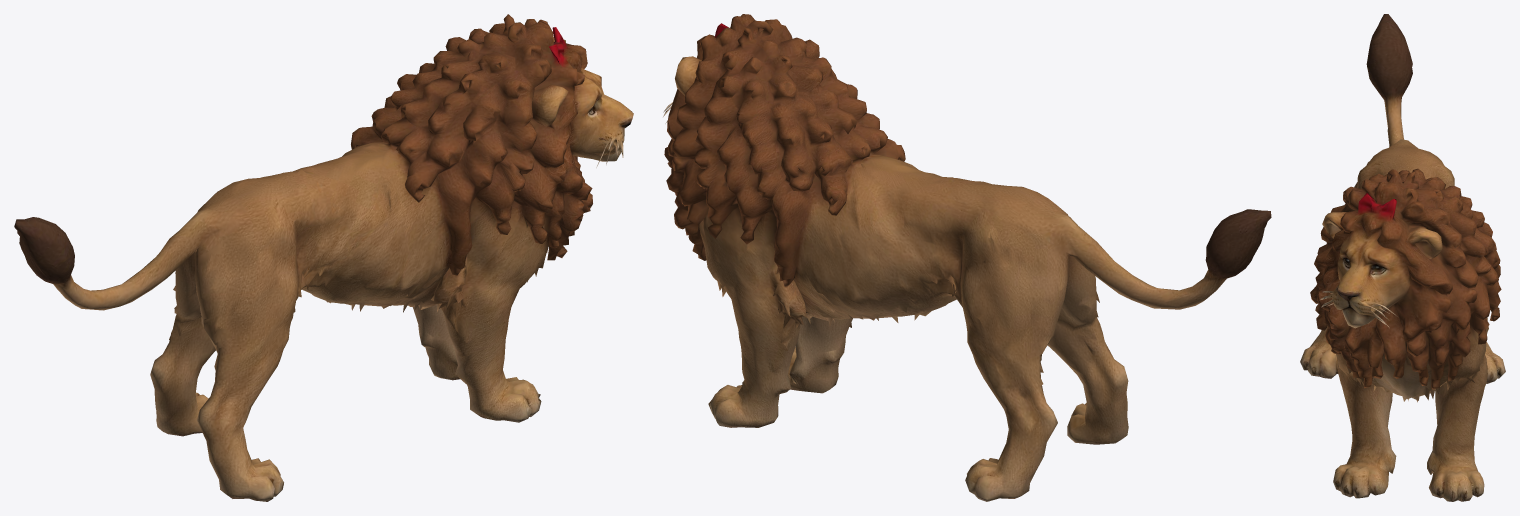
The model's file is COWARDLION.glb.
3 renders of one model, left to right at view 1: azimuth 30°, elevation 25°; view 2: azimuth 150°, elevation 25°; view 3: azimuth 270°, elevation 25°, orthographic. The views are drawn at different scales.
Parts seen in each view (by area): view 1: tripo_node_b8eeb42a-221f-4d1e-a245-52b2717225c3; view 2: tripo_node_b8eeb42a-221f-4d1e-a245-52b2717225c3; view 3: tripo_node_b8eeb42a-221f-4d1e-a245-52b2717225c3.
Part boxes in pixels (x1,y1,x2,y2): tripo_node_b8eeb42a-221f-4d1e-a245-52b2717225c3: [14, 14, 633, 501]; tripo_node_b8eeb42a-221f-4d1e-a245-52b2717225c3: [663, 14, 1271, 501]; tripo_node_b8eeb42a-221f-4d1e-a245-52b2717225c3: [1300, 14, 1505, 501].
Bounding box in the file's own units: 1.72 × 1 × 0.5644.
Materials: 1 (1 with a texture image).
